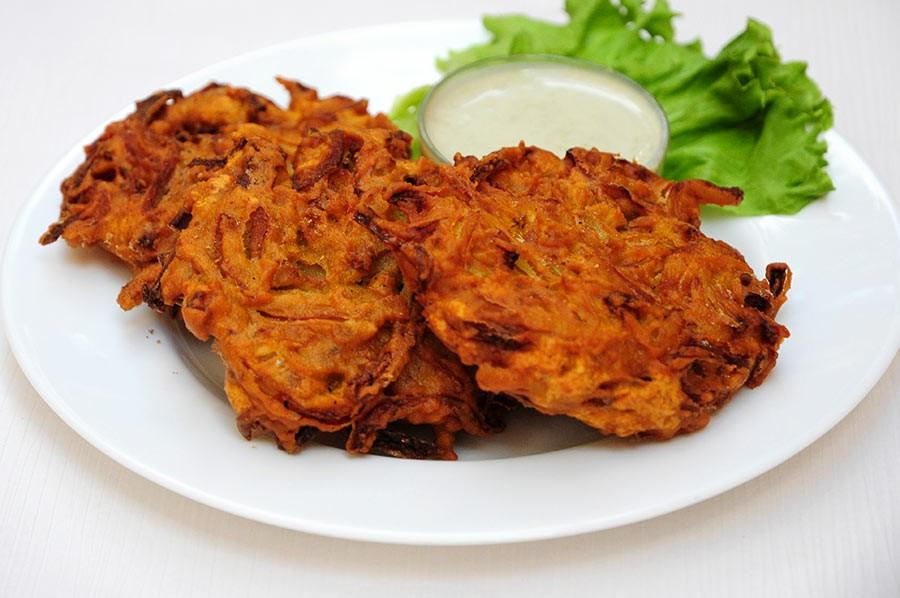OnionPakoda: (57, 64, 792, 447)
